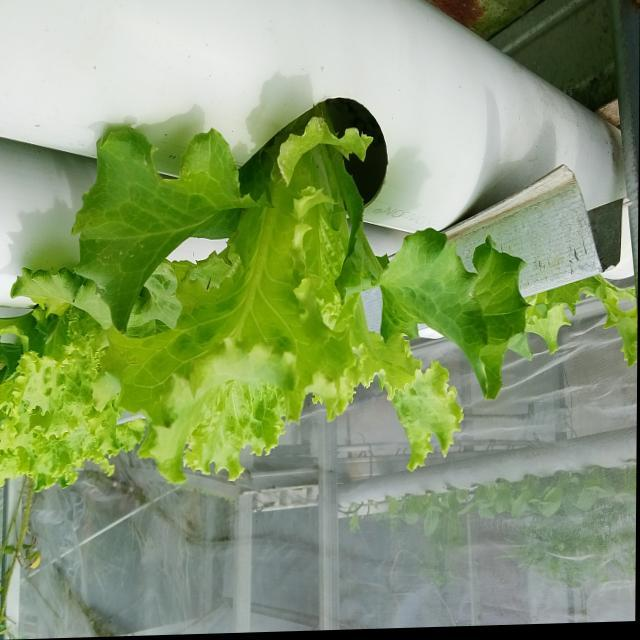Baby: (32, 98, 528, 483)
